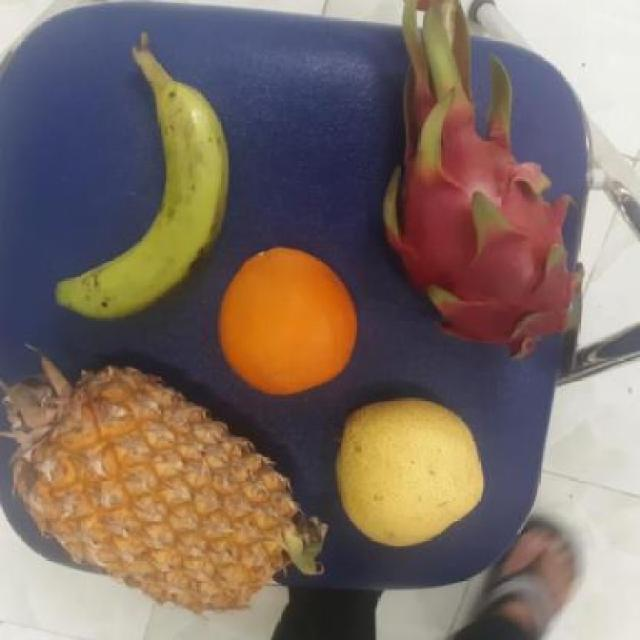banana: (51, 50, 228, 321)
dragon fruit: (372, 49, 588, 360)
oren: (211, 245, 360, 400)
pear: (330, 392, 493, 546)
pineapple: (0, 358, 311, 610)
